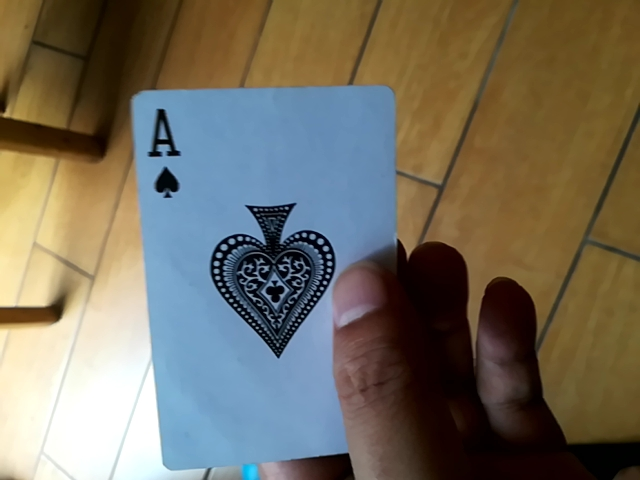ht a: (121, 82, 388, 467)
